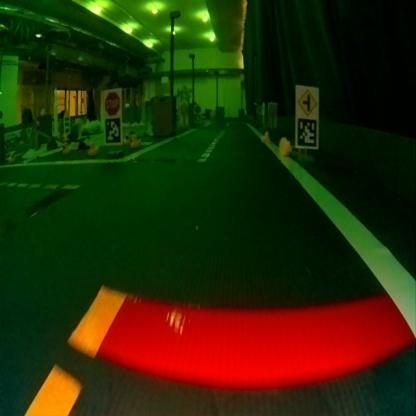Duckie: (278, 136, 292, 155), (88, 141, 97, 155), (130, 134, 138, 148), (62, 143, 70, 150), (260, 131, 266, 139), (124, 134, 129, 142)
Intersection sign: (296, 86, 318, 112)
QR code: (294, 123, 318, 148), (103, 117, 121, 143)
Stop sign: (104, 90, 119, 114)
